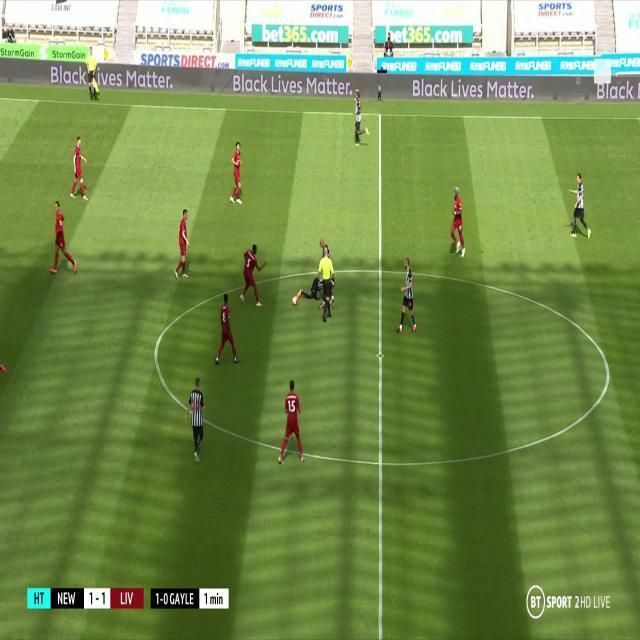player: (278, 378, 309, 474), (183, 377, 210, 465), (50, 201, 80, 279), (394, 252, 422, 335), (214, 293, 240, 371), (239, 244, 267, 311), (567, 169, 592, 243), (172, 209, 194, 283), (71, 134, 92, 208), (448, 186, 468, 259), (287, 276, 328, 306), (349, 88, 369, 149), (230, 142, 247, 204)
referee: (319, 249, 334, 323), (85, 45, 98, 104)
